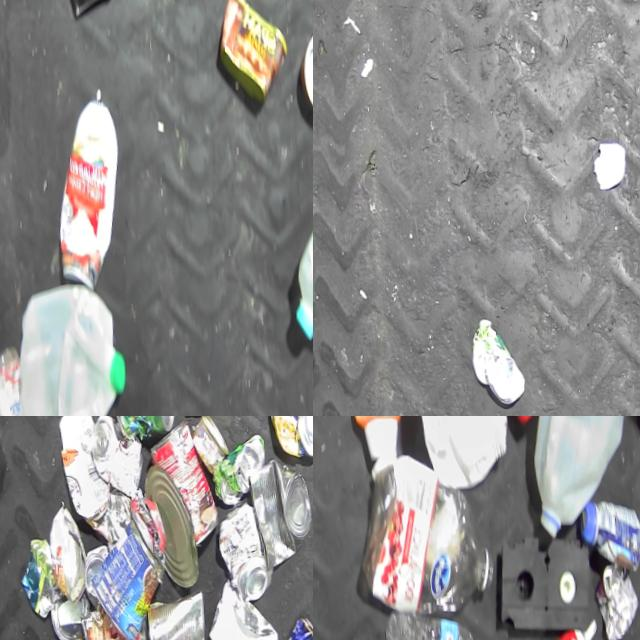can: (40, 88, 122, 297), (78, 519, 161, 640), (138, 423, 212, 555), (237, 462, 306, 579), (133, 467, 191, 596), (206, 506, 265, 609), (81, 416, 139, 504), (581, 564, 638, 640), (38, 506, 80, 608), (203, 438, 260, 513), (133, 592, 197, 640), (260, 416, 313, 467), (182, 416, 223, 480), (290, 32, 313, 128), (69, 610, 140, 640), (38, 593, 81, 640), (107, 416, 171, 446), (73, 546, 102, 612), (490, 416, 543, 445), (256, 618, 313, 640)
milk_jug: (0, 281, 121, 416), (516, 416, 637, 547), (275, 141, 313, 350)
plastic_bottle: (345, 447, 490, 621), (372, 604, 484, 640), (0, 345, 21, 416)
